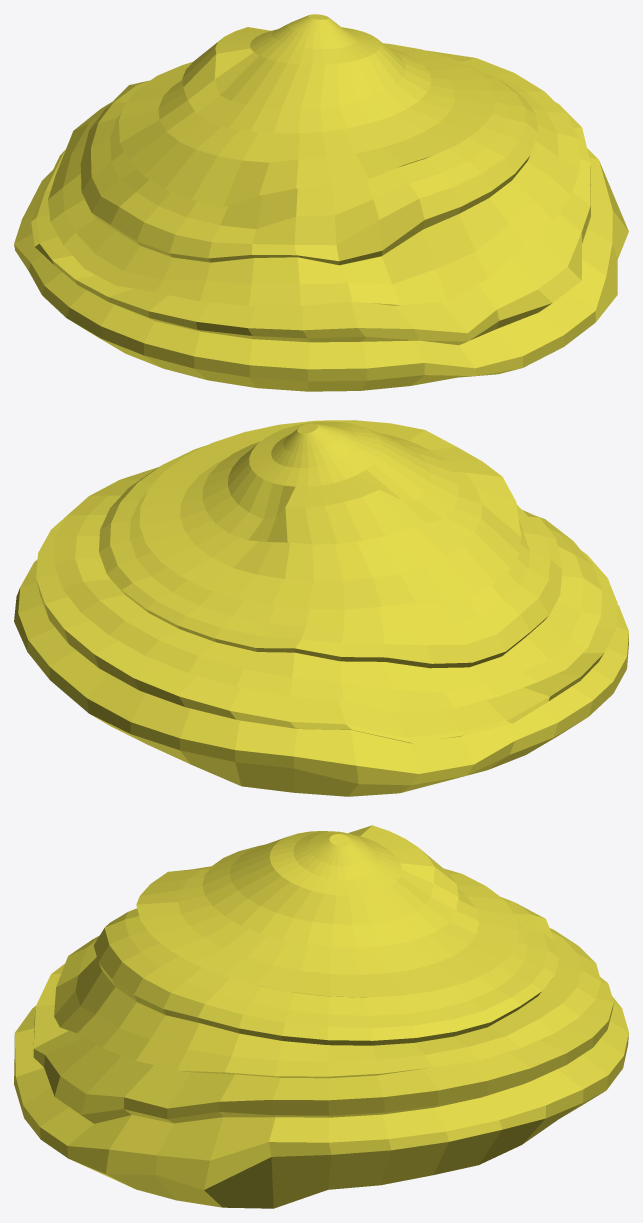
The model's file is poop_coin.fbx.
The picture shows the model from 3 angles, top to bottom: view 1: azimuth 30°, elevation 25°; view 2: azimuth 150°, elevation 25°; view 3: azimuth 270°, elevation 25°; orthographic projection.
Parts seen in each view (by area): view 1: smelly coin; view 2: smelly coin; view 3: smelly coin.
Boxes of the visible parts, x1=… form: smelly coin: x1=14, y1=14, x2=628, y2=391; smelly coin: x1=14, y1=420, x2=628, y2=796; smelly coin: x1=14, y1=825, x2=628, y2=1208.
Size of the model in its own units: 33.74 by 16.56 by 33.3.
